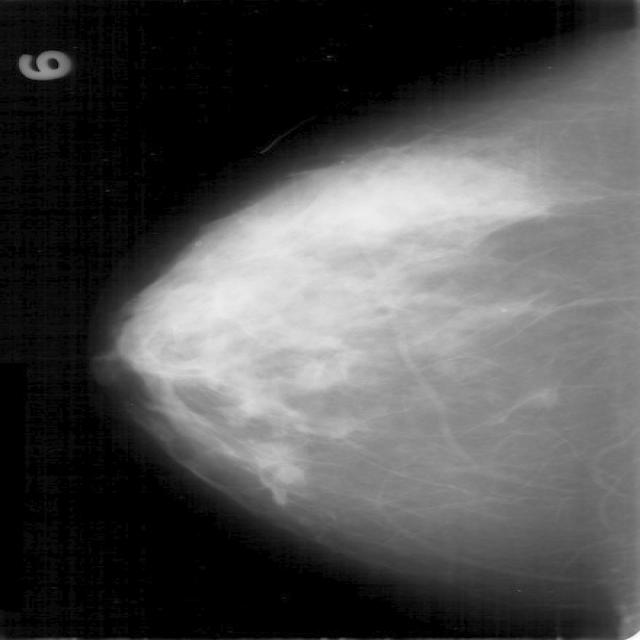tumour: (516, 385, 558, 408)
